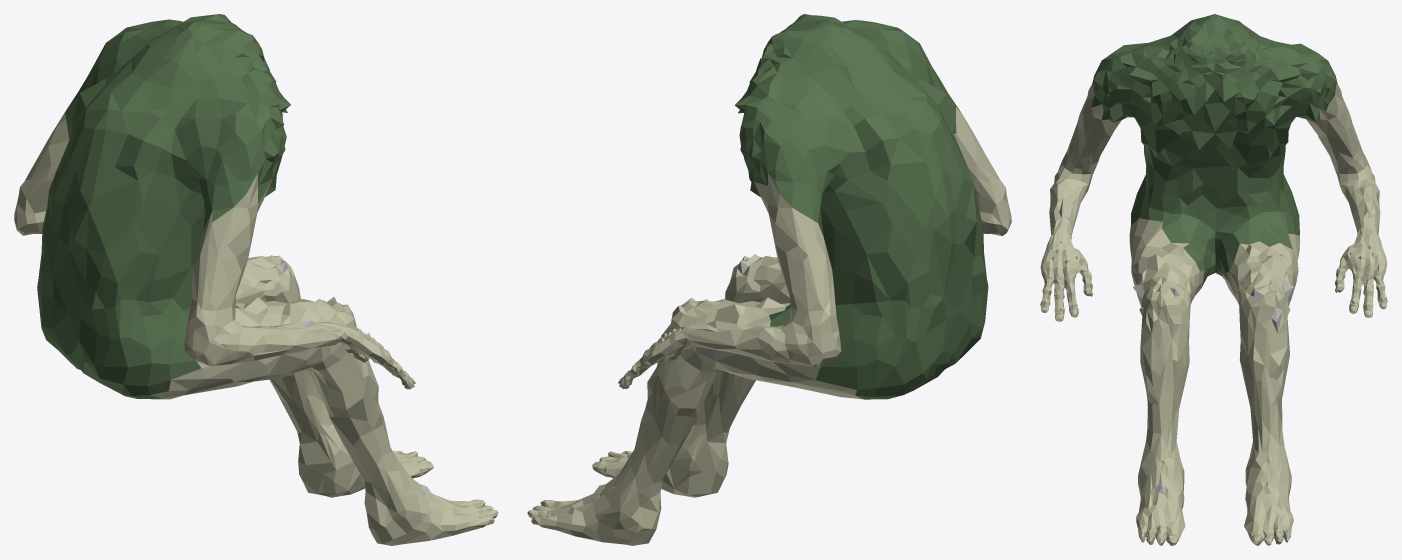
The model's file is Troll_headless.fbx.
3 renders of one model, left to right at view 1: azimuth 30°, elevation 25°; view 2: azimuth 150°, elevation 25°; view 3: azimuth 270°, elevation 25°, orthographic. The views are drawn at different scales.
Visible parts, largest first — view 1: Cube_205; view 2: Cube_205; view 3: Cube_205.
Boxes of the visible parts, x1=… form: Cube_205: x1=14, y1=14, x2=498, y2=545; Cube_205: x1=527, y1=14, x2=1011, y2=545; Cube_205: x1=1040, y1=14, x2=1387, y2=545.
Size of the model in its own units: 1659 by 2131 by 1549.
